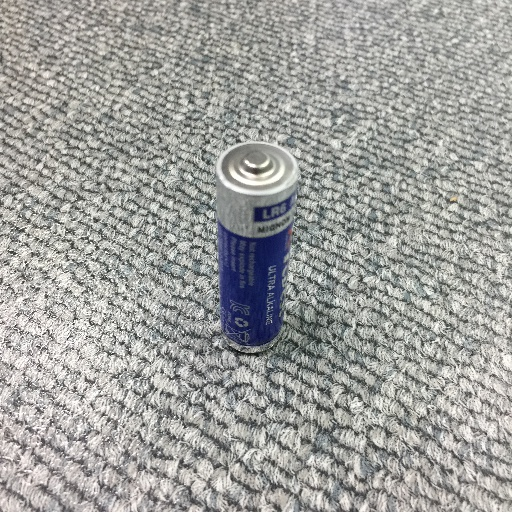Battery_0: (201, 129, 308, 367)
